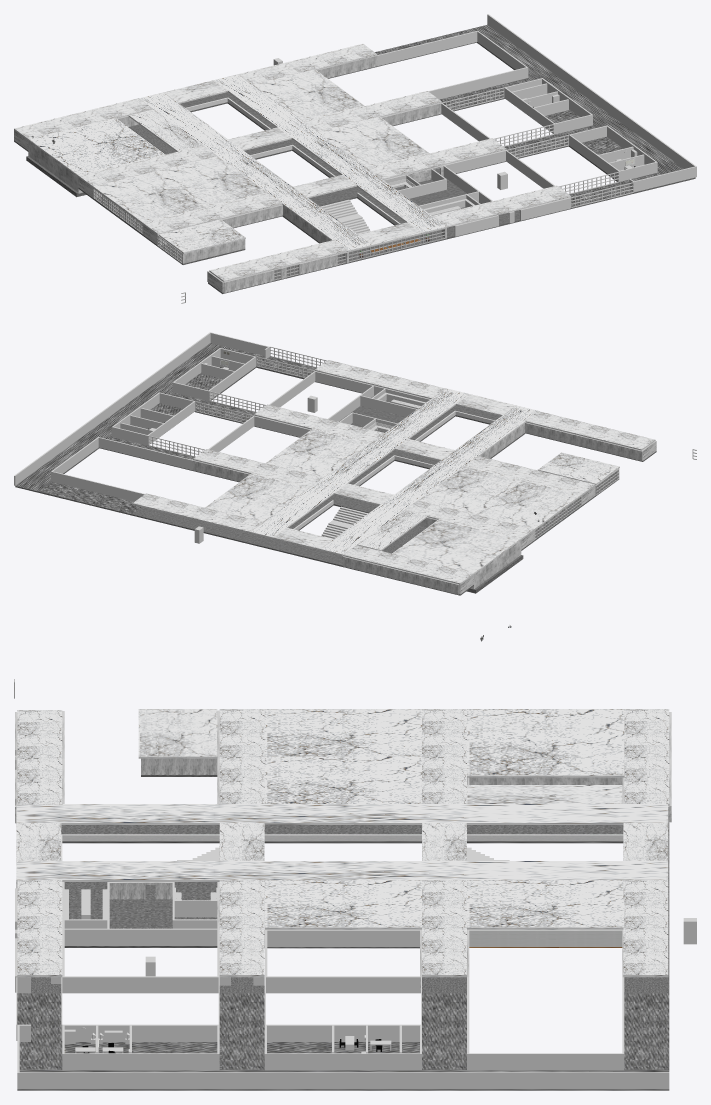
Rendered from dereks_lab.glb.
The picture shows the model from 3 angles, top to bottom: view 1: azimuth 30°, elevation 25°; view 2: azimuth 150°, elevation 25°; view 3: azimuth 270°, elevation 25°; orthographic projection. The views are drawn at different scales.
Visible parts, largest first — view 1: roof-col.010, roof-col.007, roof-col.003, roof-col, roof-col.008, roof-col.015, roof-col.016, corridor_floor-col.008, roof-col.006, roof-col.019, roof-col.020, roof-col.002 (+50 smaller); view 2: roof-col.010, roof-col.007, roof-col.003, corridor_floor-col.008, roof-col, roof-col.015, roof-col.008, roof-col.016, roof-col.004, roof-col.006, roof-col.017, roof-col.020 (+49 smaller); view 3: roof-col.007, roof-col.010, roof-col.003, roof-col.016, roof-col.015, roof-col, roof-col.008, corridor_floor-col.014, roof-col.019, roof-col.020, roof-col.017, roof-col.018 (+45 smaller).
Boxes of the visible parts, <box> form: roof-col.010: <box>214,74,446,233</box>; roof-col.007: <box>139,92,372,252</box>; roof-col.003: <box>28,118,165,176</box>; roof-col: <box>93,171,204,223</box>; roof-col.008: <box>155,156,267,207</box>; roof-col.015: <box>317,116,429,168</box>; roof-col.016: <box>253,69,364,120</box>; corridor_floor-col.008: <box>463,25,695,184</box>; roof-col.006: <box>209,240,347,281</box>; roof-col.019: <box>368,138,506,179</box>; roof-col.020: <box>433,185,571,227</box>; roof-col.002: <box>143,193,282,234</box>; roof-col.010: <box>249,388,468,538</box>; roof-col.007: <box>320,405,539,555</box>; roof-col.003: <box>392,519,521,574</box>; corridor_floor-col.008: <box>15,343,233,492</box>; roof-col: <box>476,480,581,529</box>; roof-col.015: <box>265,428,370,477</box>; roof-col.008: <box>418,466,522,514</box>; roof-col.016: <box>205,473,309,521</box>; roof-col.004: <box>343,545,473,584</box>; roof-col.006: <box>525,411,655,450</box>; roof-col.017: <box>132,493,262,532</box>; roof-col.020: <box>315,360,445,399</box>; roof-col.007: <box>16,804,668,824</box>; roof-col.010: <box>16,861,668,881</box>; roof-col.003: <box>467,709,624,777</box>; roof-col.016: <box>467,880,624,929</box>; roof-col.015: <box>265,880,421,929</box>; roof-col: <box>264,709,421,756</box>; roof-col.008: <box>264,756,421,803</box>; corridor_floor-col.014: <box>61,823,669,843</box>; roof-col.019: <box>219,880,264,977</box>; roof-col.020: <box>17,880,62,977</box>; roof-col.017: <box>623,880,668,977</box>; roof-col.018: <box>422,880,466,977</box>.
Size of the model in its own units: 415 by 57.79 by 304.
24 materials, 23 textured.
